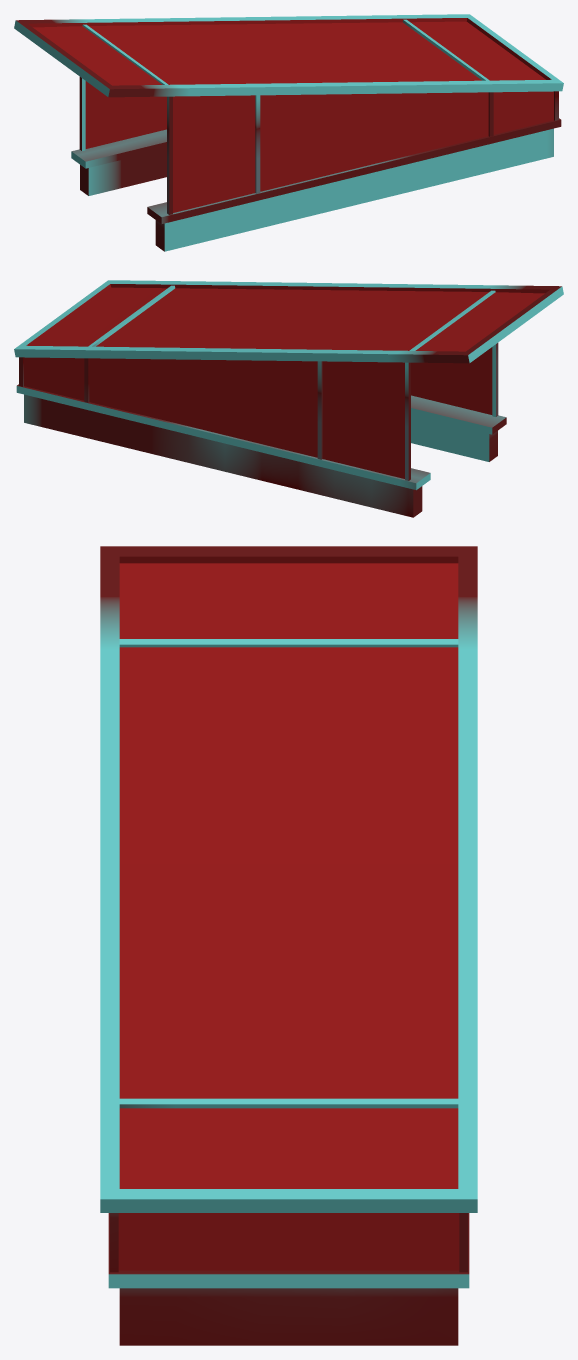
File: SM_SubwayDown_v02.FBX
3 renders of one model, top to bottom at view 1: azimuth 30°, elevation 25°; view 2: azimuth 150°, elevation 25°; view 3: azimuth 270°, elevation 25°, orthographic. The views are drawn at different scales.
Parts seen in each view (by area): view 1: SubwayDown_v02; view 2: SubwayDown_v02; view 3: SubwayDown_v02.
Part boxes in pixels (x1,y1,x2,y2): SubwayDown_v02: (14,14,563,251); SubwayDown_v02: (14,280,563,517); SubwayDown_v02: (100,546,477,1345).
Size of the model in its own units: 12 by 4.54 by 4.3.
Materials: 2 (2 with a texture image).
